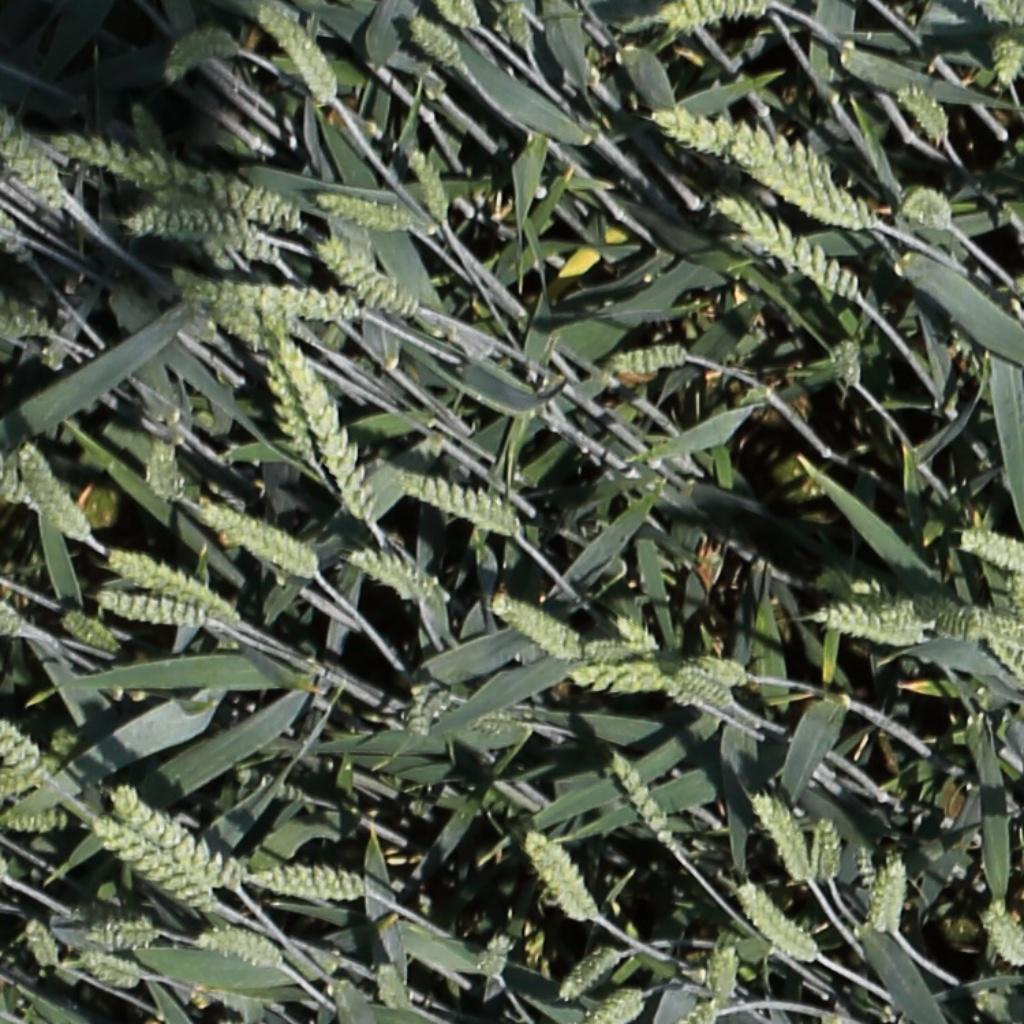0-0: (294, 355, 387, 537), (90, 819, 241, 923), (102, 786, 239, 899), (719, 197, 858, 300), (103, 550, 258, 630), (735, 143, 868, 228), (197, 502, 329, 586), (398, 476, 533, 549), (118, 208, 284, 265), (799, 593, 934, 662), (603, 749, 682, 861), (251, 2, 335, 107), (12, 435, 90, 547), (589, 642, 713, 711), (262, 343, 331, 466), (520, 830, 604, 928), (563, 652, 764, 692), (748, 789, 821, 895), (314, 237, 412, 315), (734, 880, 823, 964), (345, 551, 446, 625), (94, 593, 243, 643), (490, 596, 593, 663), (212, 278, 293, 355), (49, 133, 163, 185), (241, 863, 382, 905), (180, 282, 357, 315), (866, 592, 973, 641), (394, 668, 466, 740), (949, 596, 1024, 660), (0, 713, 57, 792), (190, 925, 294, 967), (4, 136, 64, 208), (402, 140, 451, 226), (230, 764, 321, 808), (218, 180, 299, 229), (652, 107, 731, 154), (872, 850, 911, 942), (557, 949, 627, 1000), (312, 191, 408, 228), (0, 747, 62, 804), (894, 83, 951, 144), (678, 663, 744, 714), (188, 227, 253, 278), (980, 895, 1024, 970), (146, 434, 191, 507), (439, 697, 520, 737), (959, 529, 1024, 577), (406, 15, 462, 69), (79, 916, 163, 951), (75, 950, 148, 990), (812, 802, 844, 891), (19, 913, 64, 976), (708, 937, 744, 1015), (374, 953, 417, 1016), (162, 32, 233, 69), (678, 650, 753, 684), (57, 610, 117, 652), (897, 184, 951, 229), (984, 630, 1024, 690), (999, 560, 1024, 655), (662, 2, 763, 25), (611, 611, 659, 658), (496, 1, 535, 55), (607, 346, 688, 372), (473, 932, 512, 984), (832, 330, 861, 394), (850, 841, 879, 905), (591, 989, 643, 1024), (991, 35, 1022, 92), (438, 0, 477, 32), (685, 993, 720, 1024), (984, 0, 1024, 27), (1008, 268, 1024, 335), (2, 815, 68, 831)
